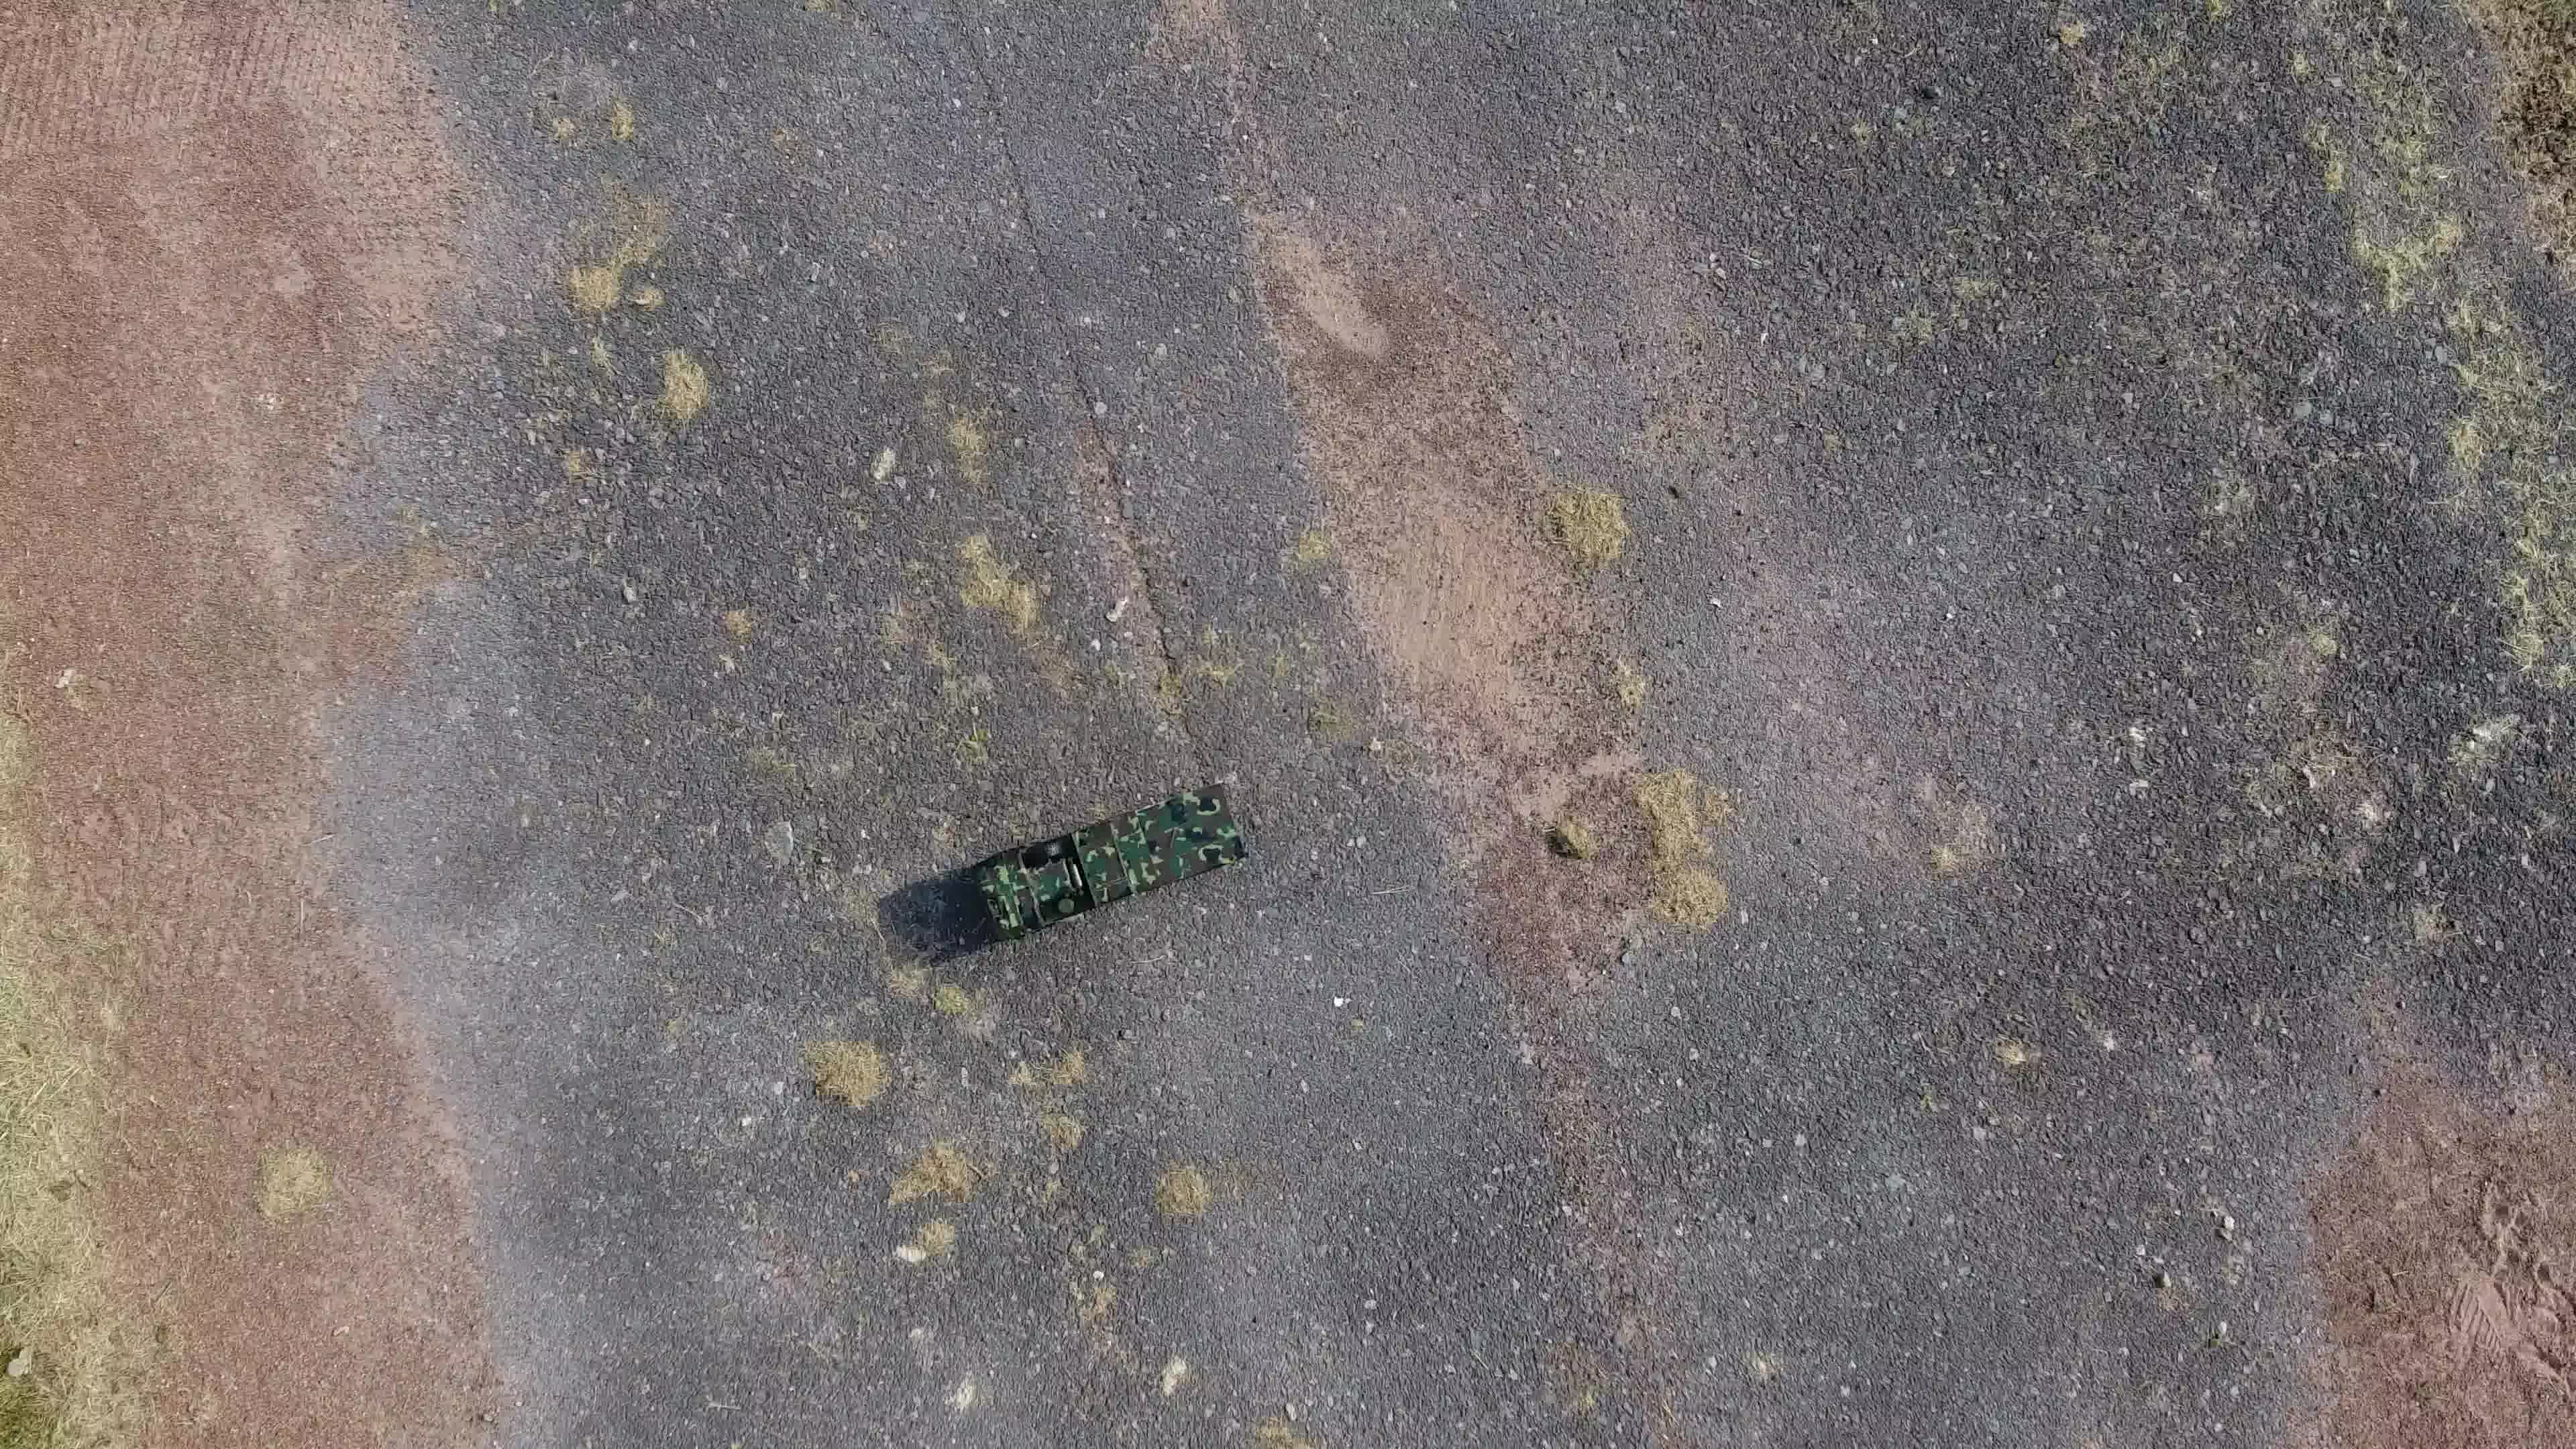transporter9: (961, 761, 1258, 952)
